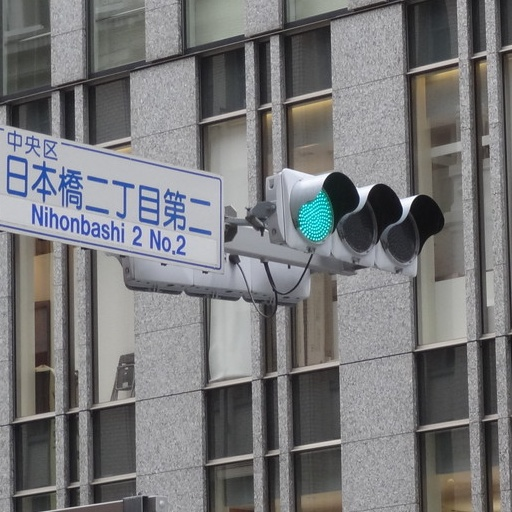Traffic_Signal_Blue: (272, 164, 444, 277)
